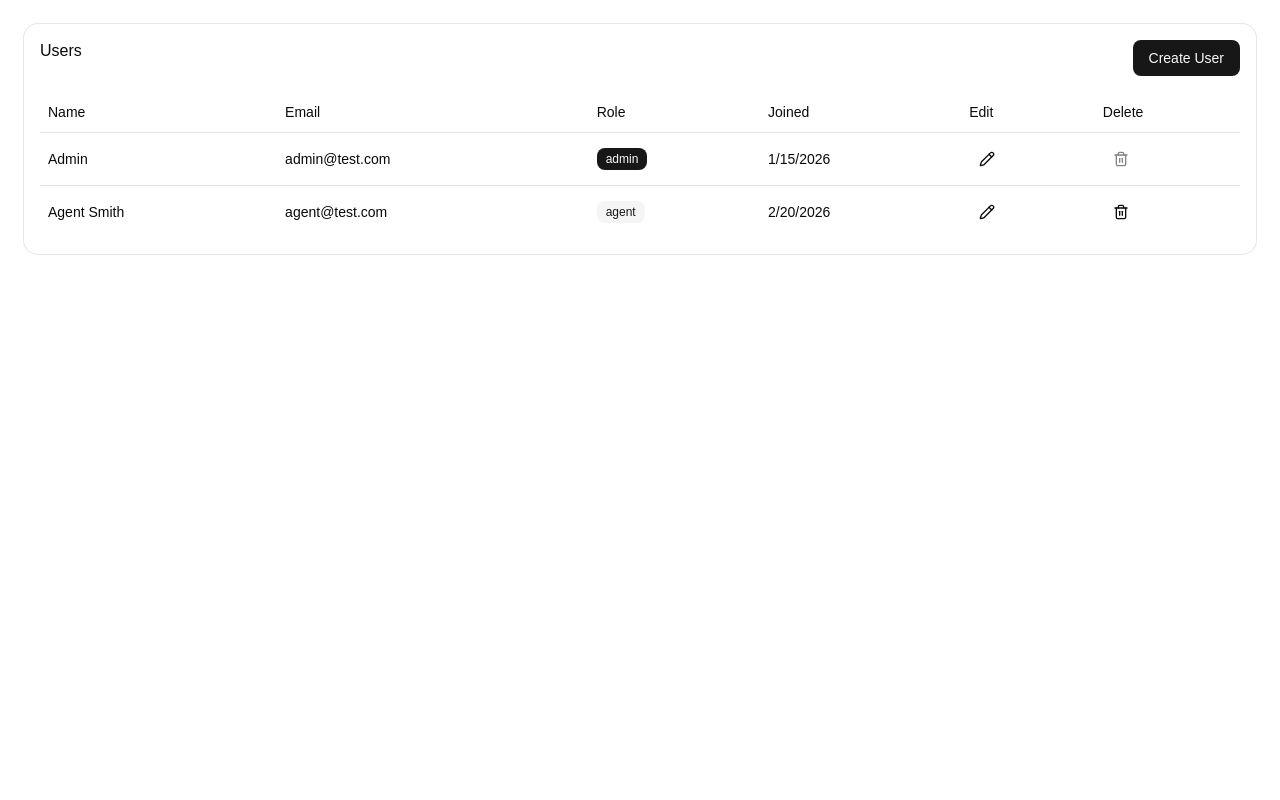
UsersPage › refreshes the list after creating a user
Expected: the table is shown, [40,92,1240,238]
Click the button "Create User". click: (1186, 58)
box: [1132,40,1240,76]
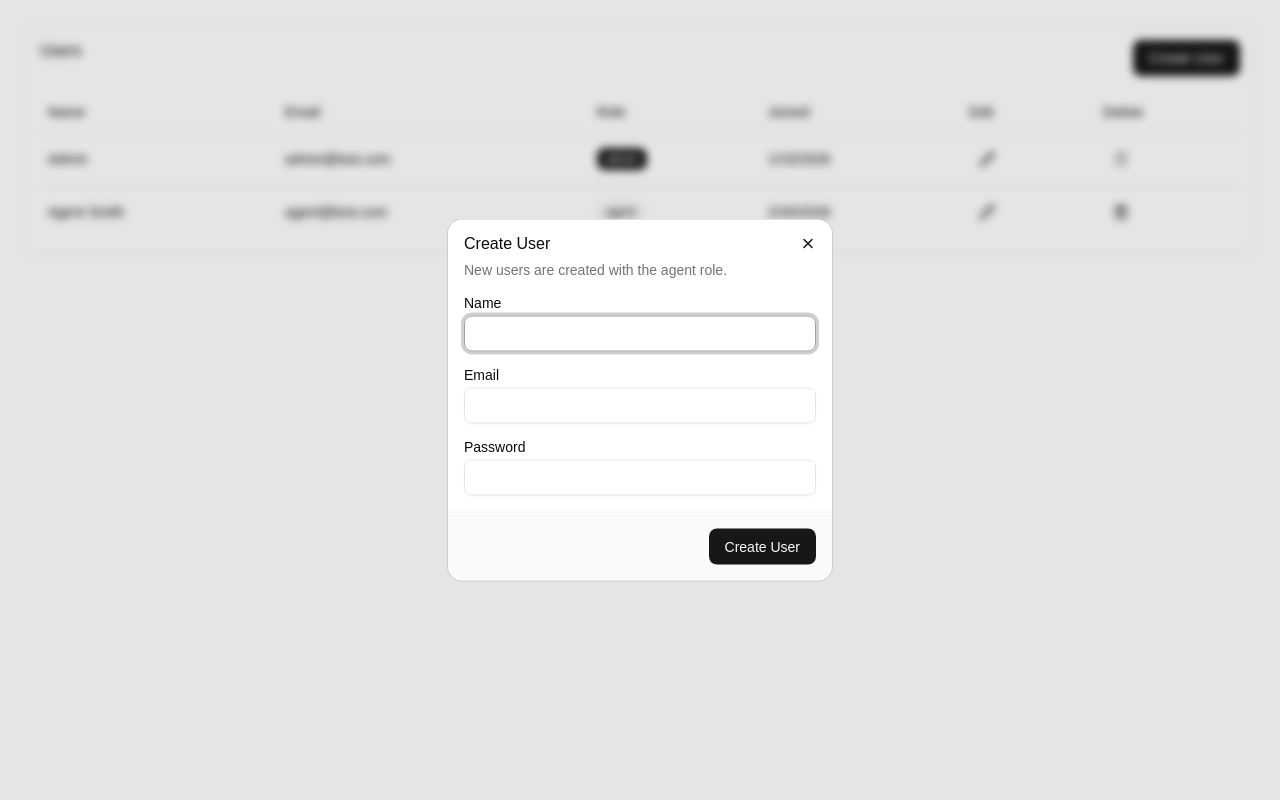
Type "New Agent" into the field labelled "Name". click: (640, 334)
box: [464,316,816,352]
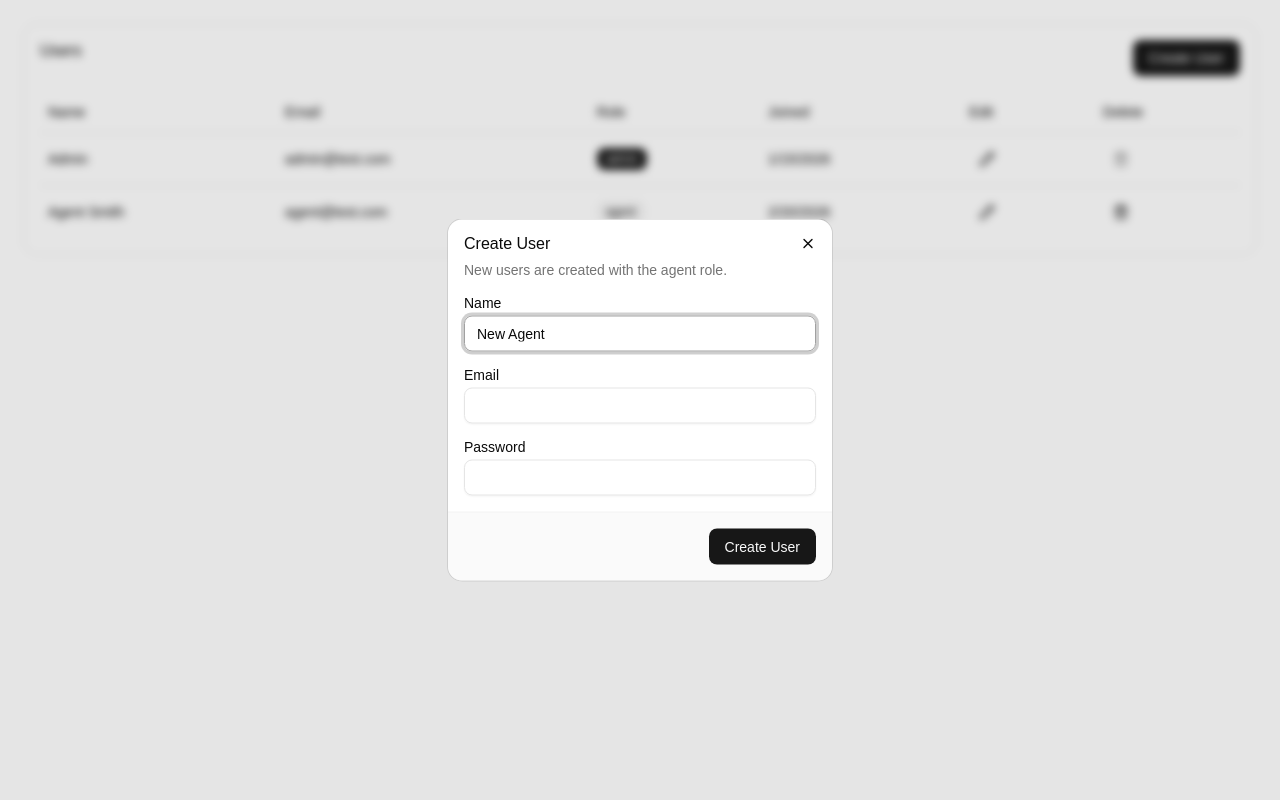
Type "newagent@test.com" into the field labelled "Email". click: (640, 406)
box: [464,388,816,424]
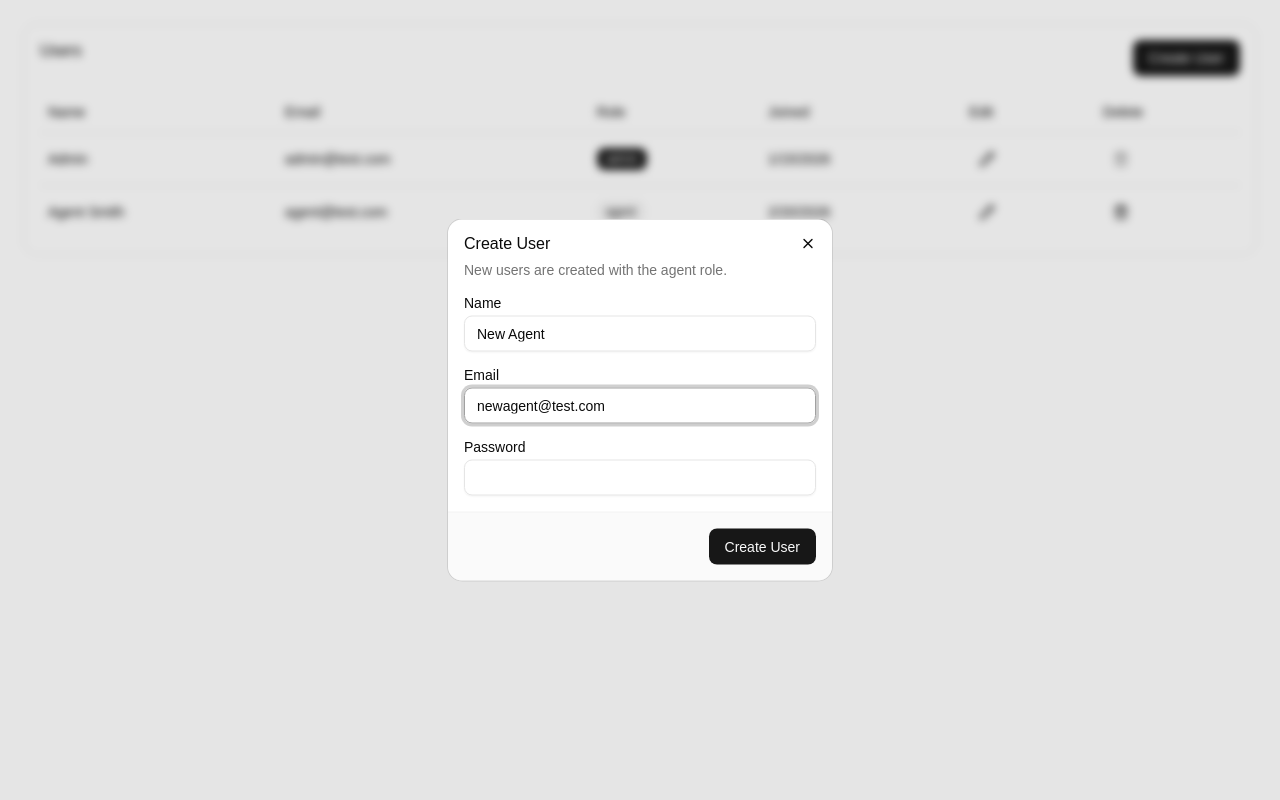
Type "password123" into the password field labelled "Password". click: (640, 478)
box: [464,460,816,496]
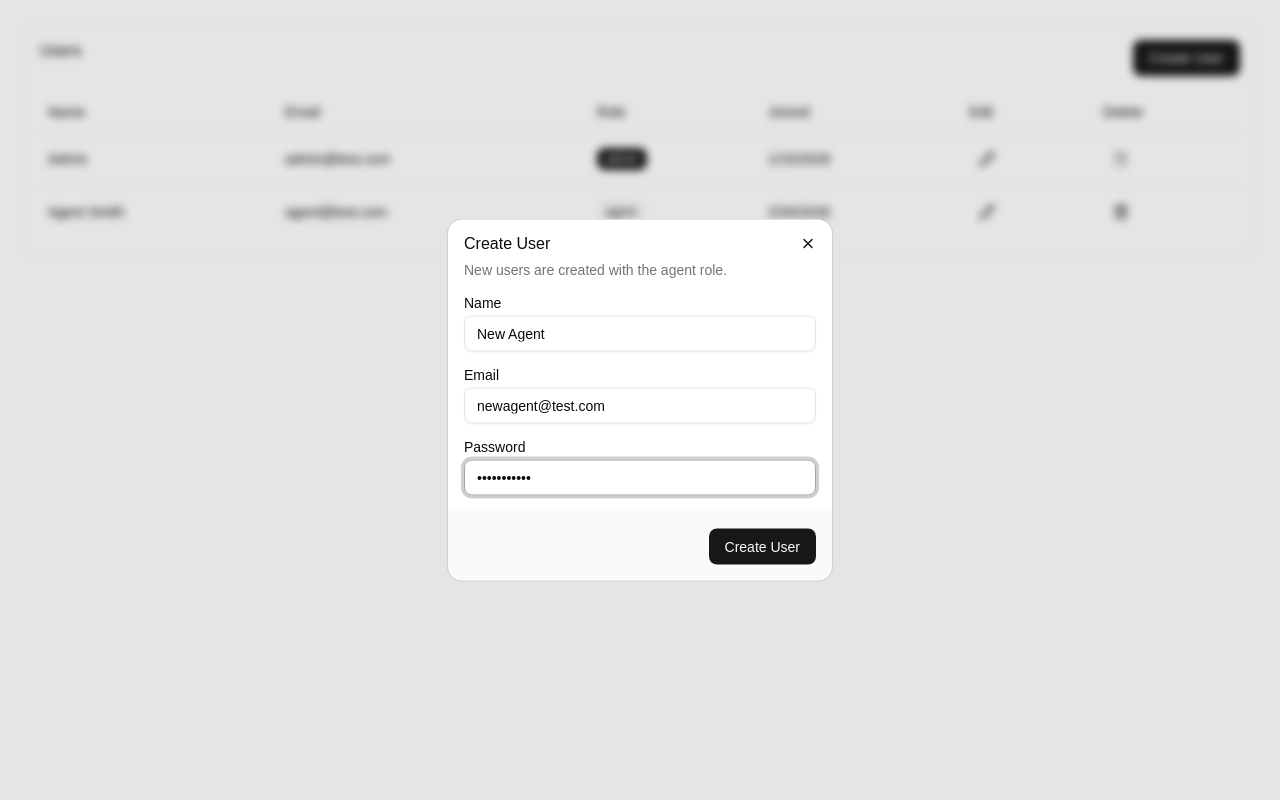
Click the button "Create User". click: (762, 546)
box: [708,528,816,564]
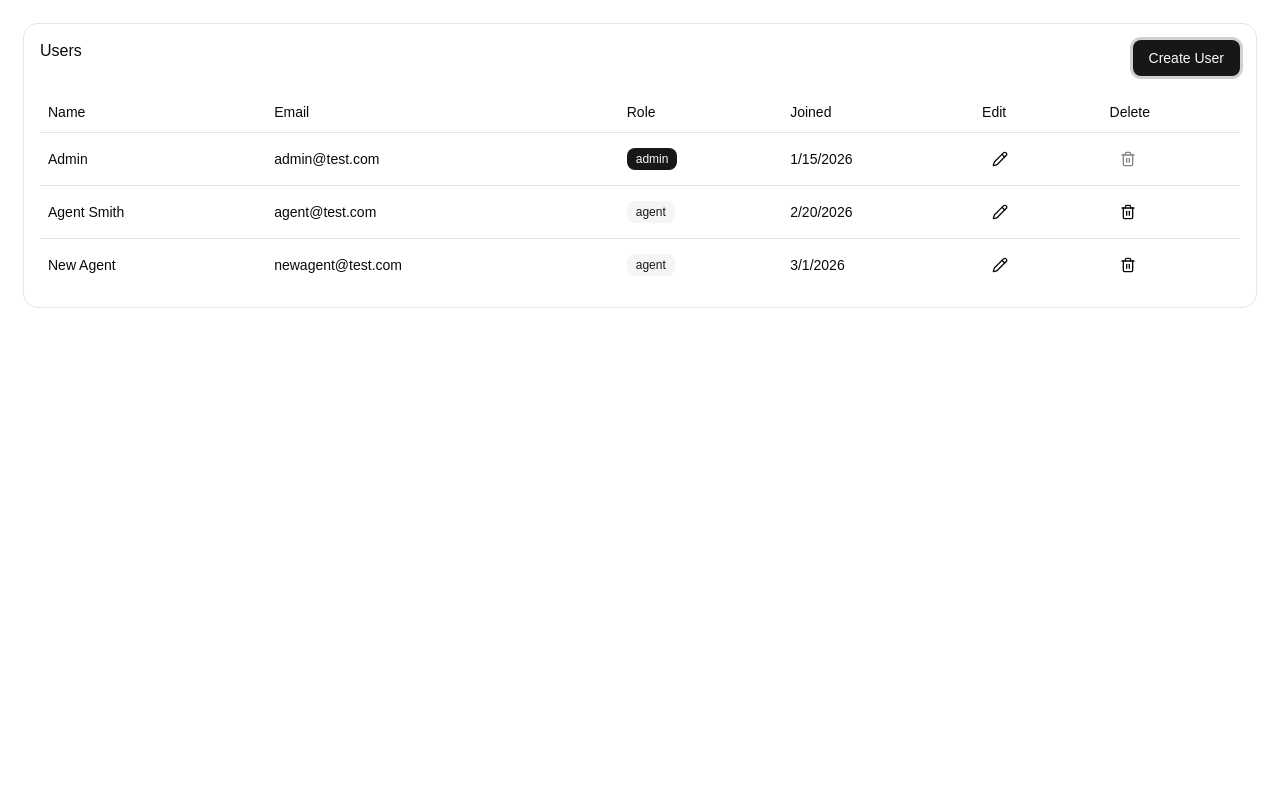
Now the row "New Agent newagent@test.com agent 3/1/2026" is shown, box [40,238,1240,290]
